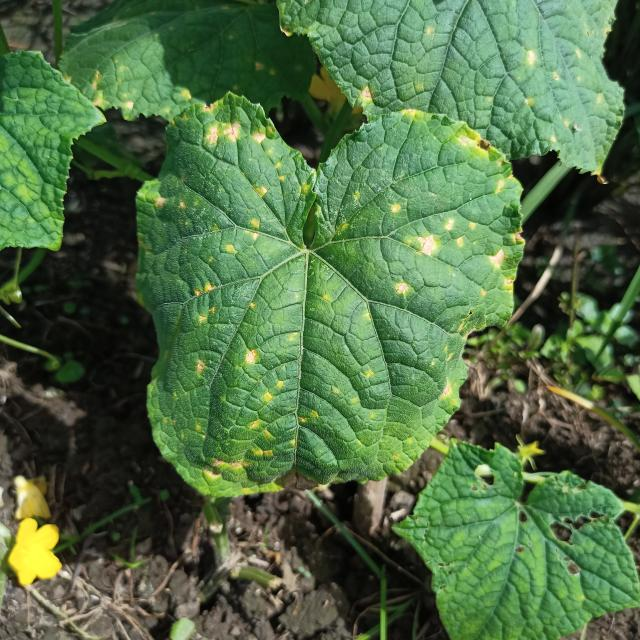disease_cucumber: (149, 100, 521, 494), (516, 48, 596, 150)
